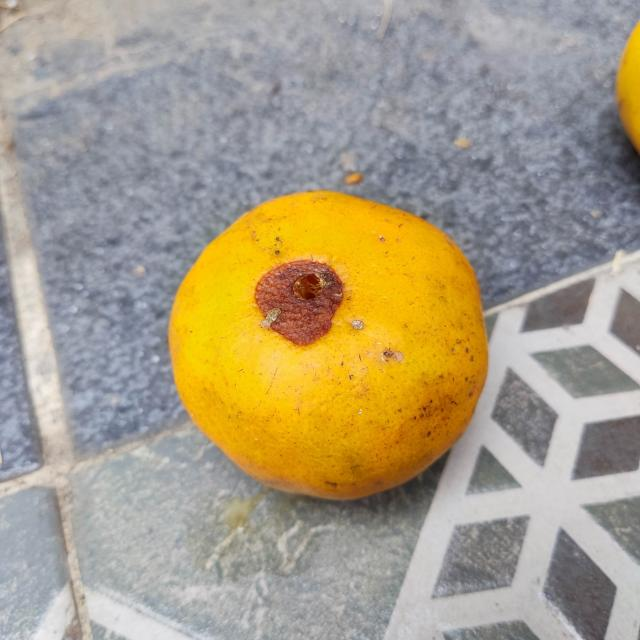orange: (167, 187, 492, 503)
